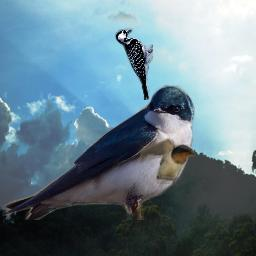Swallow: (2, 85, 195, 220), (138, 138, 195, 184)
Woodpecker: (115, 27, 153, 100)
